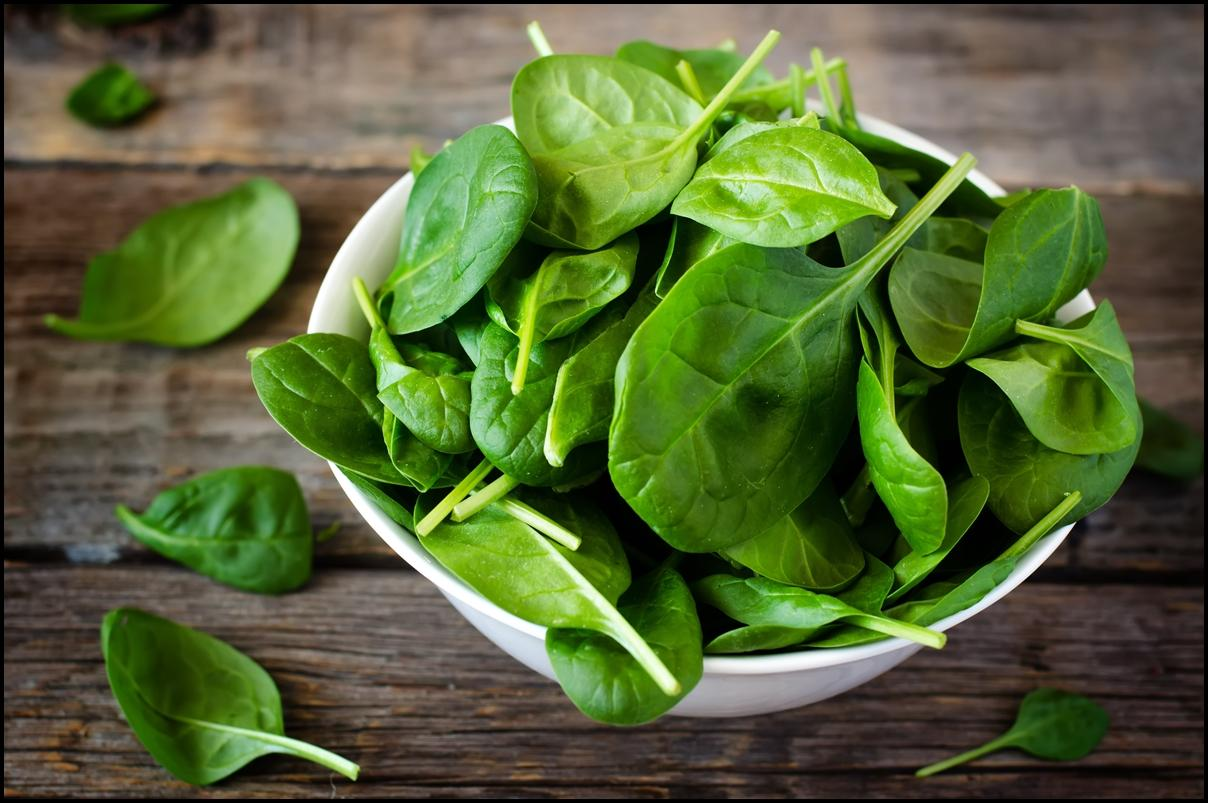spinach: (244, 27, 1144, 726)
